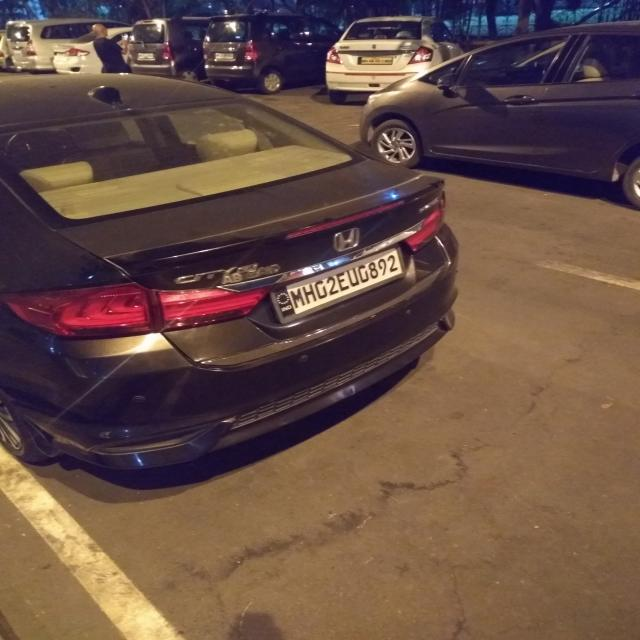Number-Plate: (281, 245, 405, 316), (290, 253, 396, 315)
